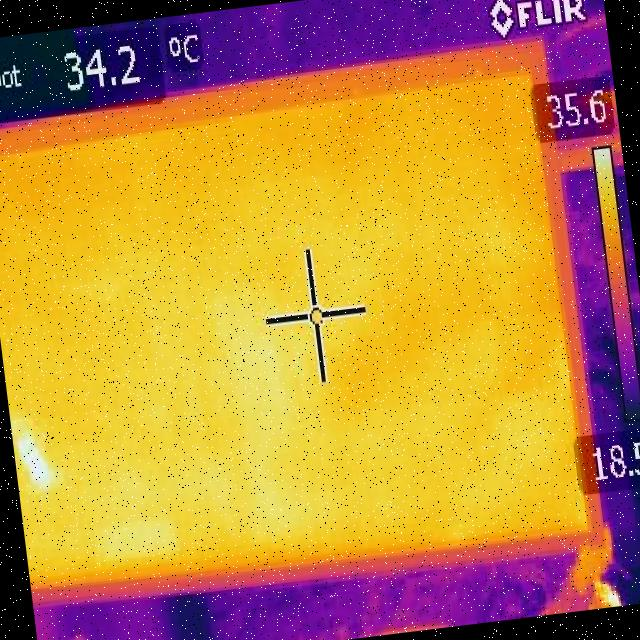Hotspot: (9, 410, 62, 504)
